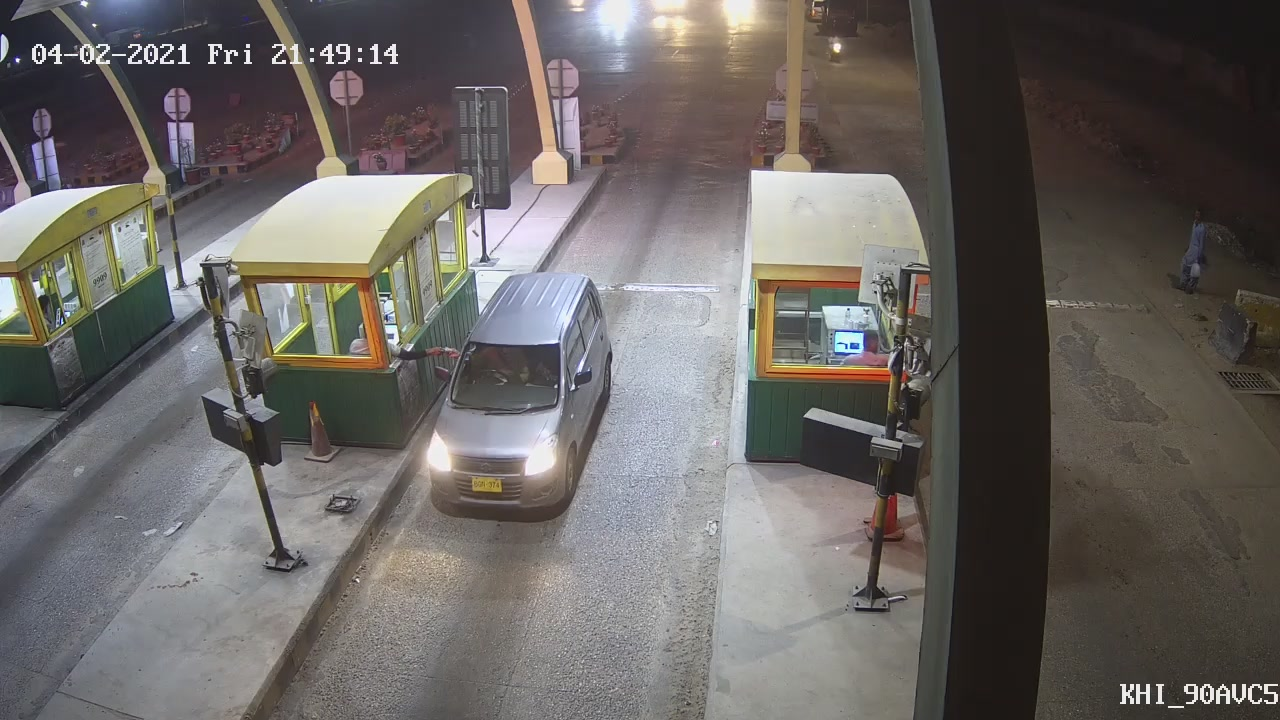F1: (414, 263, 618, 516)
